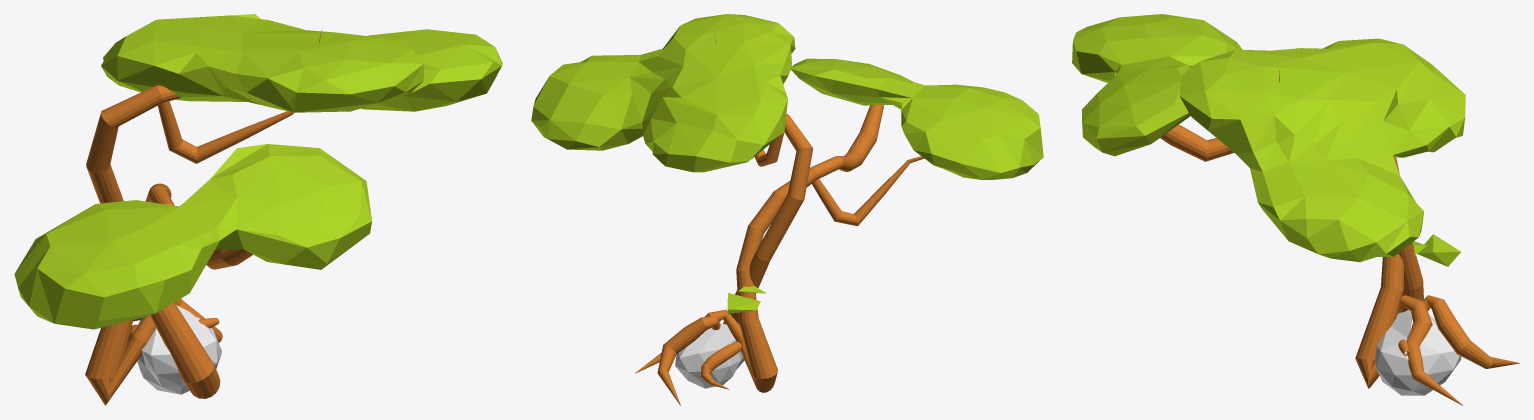
Rendered from Tree2.fbx.
The picture shows the model from 3 angles, left to right: view 1: azimuth 30°, elevation 25°; view 2: azimuth 150°, elevation 25°; view 3: azimuth 270°, elevation 25°; orthographic projection. The views are drawn at different scales.
Visible parts, largest first — view 1: Mball.006, NurbsPath, Icosphere.001; view 2: Mball.006, NurbsPath, Icosphere.001; view 3: Mball.006, NurbsPath, Icosphere.001.
Boxes of the visible parts, left/top/right/bottom form: Mball.006: left=14, top=14, right=502, bottom=329; NurbsPath: left=85, top=28, right=322, bottom=405; Icosphere.001: left=137, top=305, right=221, bottom=394; Mball.006: left=531, top=14, right=1043, bottom=313; NurbsPath: left=635, top=36, right=923, bottom=405; Icosphere.001: left=675, top=323, right=744, bottom=388; Mball.006: left=1072, top=14, right=1465, bottom=266; NurbsPath: left=1160, top=70, right=1519, bottom=405; Icosphere.001: left=1375, top=309, right=1461, bottom=395.
Bounding box in the file's own units: 1250 × 859 × 985.
